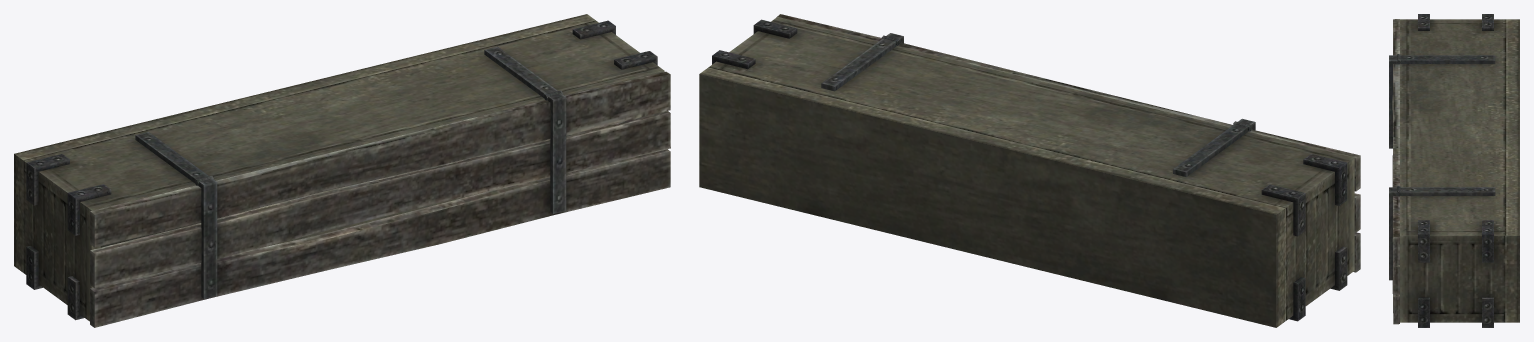
The model's file is crate2.obj.
3 views of the same model, side by side, from view 1: azimuth 30°, elevation 25°; view 2: azimuth 150°, elevation 25°; view 3: azimuth 270°, elevation 25° (orthographic). The views are drawn at different scales.
Visible parts, largest first — view 1: studio.cratelong_ref.mesh_0; view 2: studio.cratelong_ref.mesh_0; view 3: studio.cratelong_ref.mesh_0.
Part boxes in pixels (x1,y1,x2,y2): studio.cratelong_ref.mesh_0: (14,14,670,327); studio.cratelong_ref.mesh_0: (699,14,1360,327); studio.cratelong_ref.mesh_0: (1389,14,1519,327).
Size of the model in its own units: 92.3 by 18.65 by 23.2.
1 material, 1 textured.
